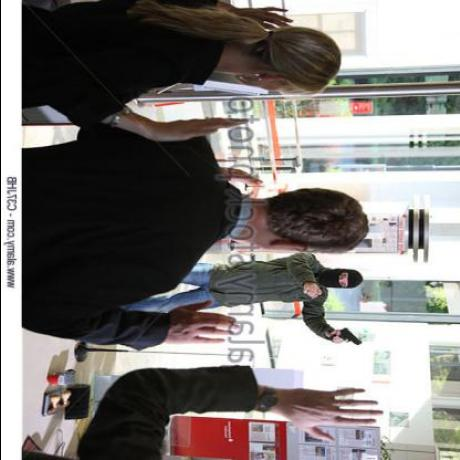1: (32, 120, 360, 340), (26, 0, 339, 130), (20, 365, 386, 460), (191, 252, 371, 354)
weapon: (327, 321, 361, 348)
